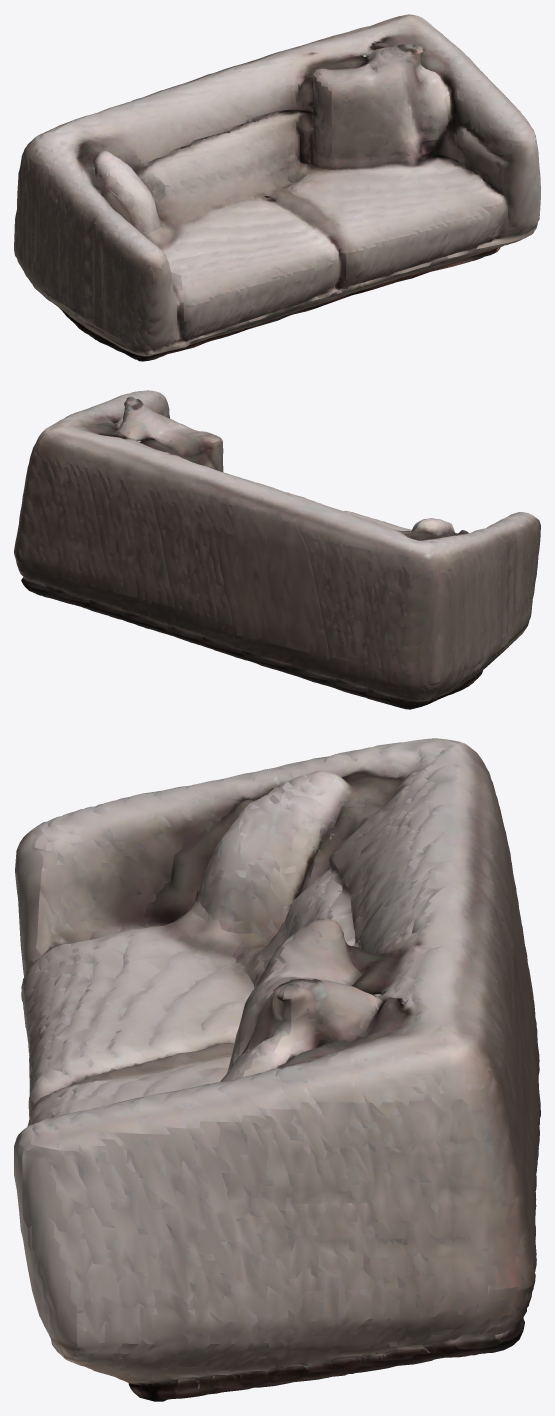
3 renders of one model, top to bottom at view 1: azimuth 30°, elevation 25°; view 2: azimuth 150°, elevation 25°; view 3: azimuth 270°, elevation 25°, orthographic. The views are drawn at different scales.
Parts seen in each view (by area): view 1: geometry_0; view 2: geometry_0; view 3: geometry_0.
Boxes of the visible parts, bbox=[...] form: geometry_0: bbox=[14, 14, 540, 361]; geometry_0: bbox=[14, 390, 540, 709]; geometry_0: bbox=[14, 738, 540, 1401].
Size of the model in its own units: 1.03 by 0.4894 by 0.5532.
Materials: 1 (1 with a texture image).
